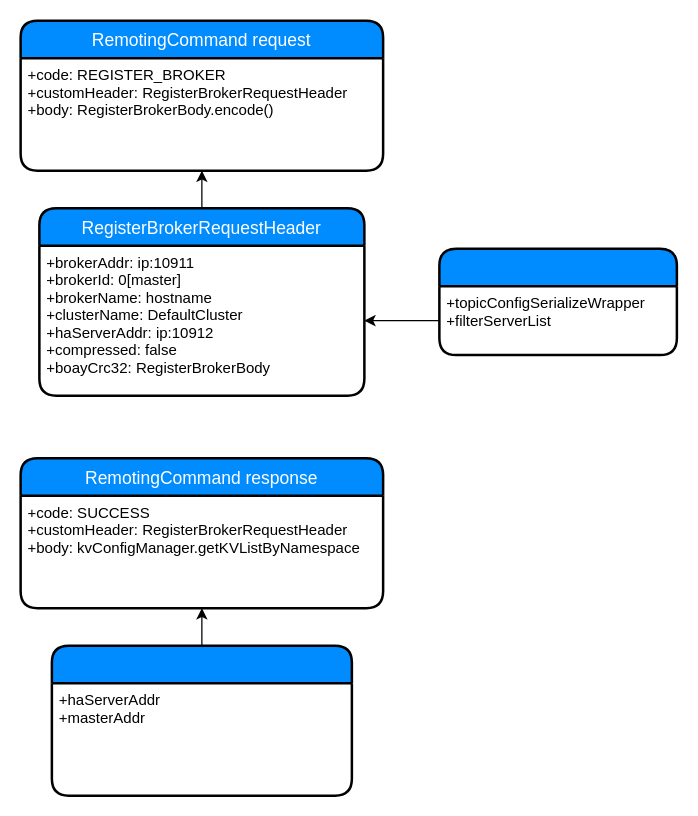
This 698x816 diagram has some shape labels left out. Here are the shapes that lost their labels. From the top down, the box of each, then its label:
(438, 247, 678, 356): RegisterBrokerBody
(50, 644, 352, 796): RegisterBrokerResponseHeader
